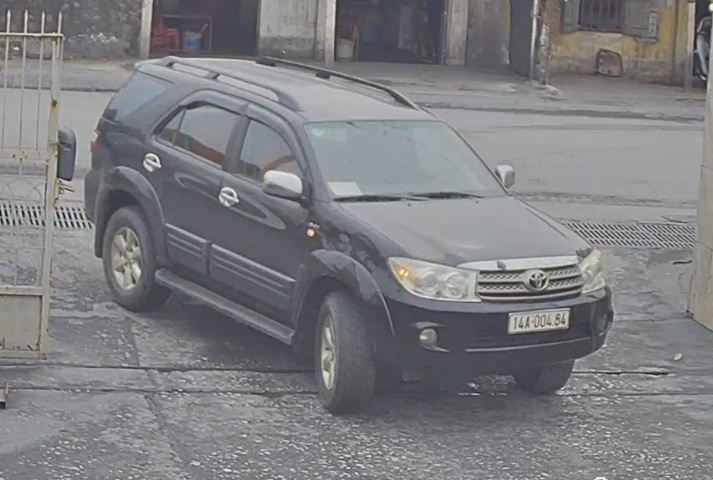vehicle plate: (504, 306, 574, 337)
